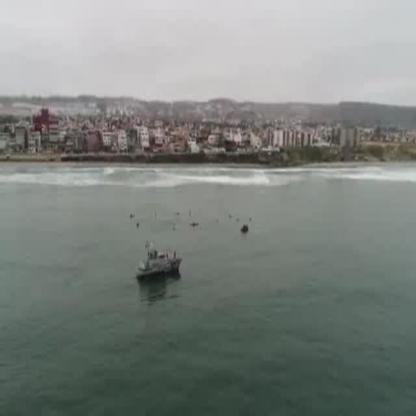Boat: (132, 248, 184, 285)
